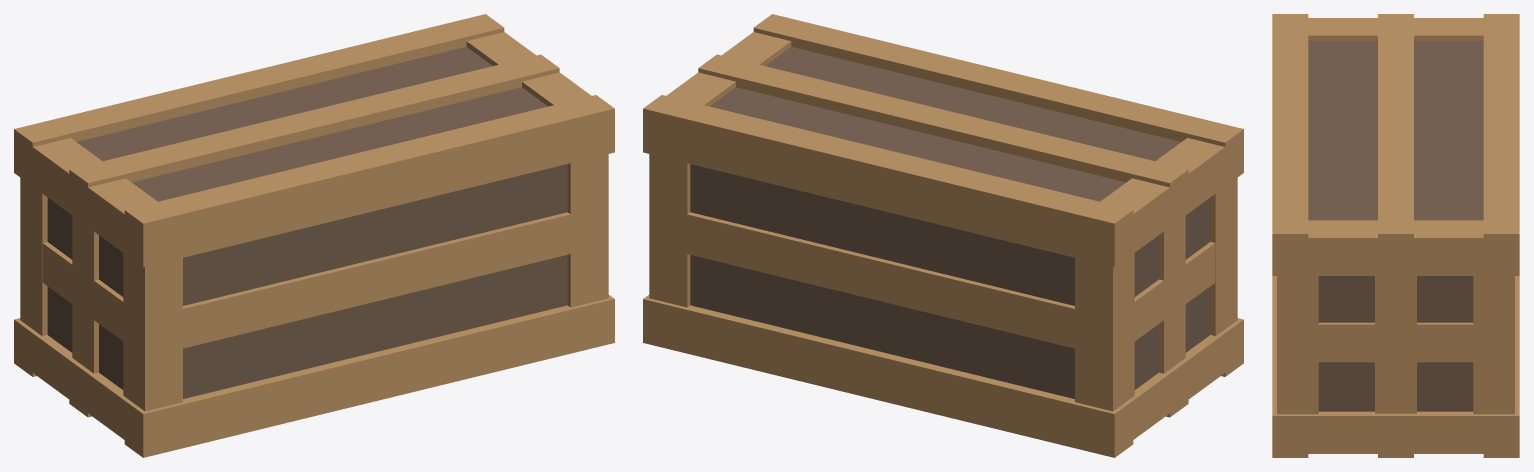
The picture shows the model from 3 angles, left to right: view 1: azimuth 30°, elevation 25°; view 2: azimuth 150°, elevation 25°; view 3: azimuth 270°, elevation 25°; orthographic projection. The views are drawn at different scales.
Parts seen in each view (by area): view 1: Box_3; view 2: Box_3; view 3: Box_3.
Boxes of the visible parts, x1,y1,x2,y2 form: Box_3: (14,14,614,457); Box_3: (643,14,1243,457); Box_3: (1272,14,1519,457).
Bounding box in the file's own units: 164 × 78.04 × 78.04.
